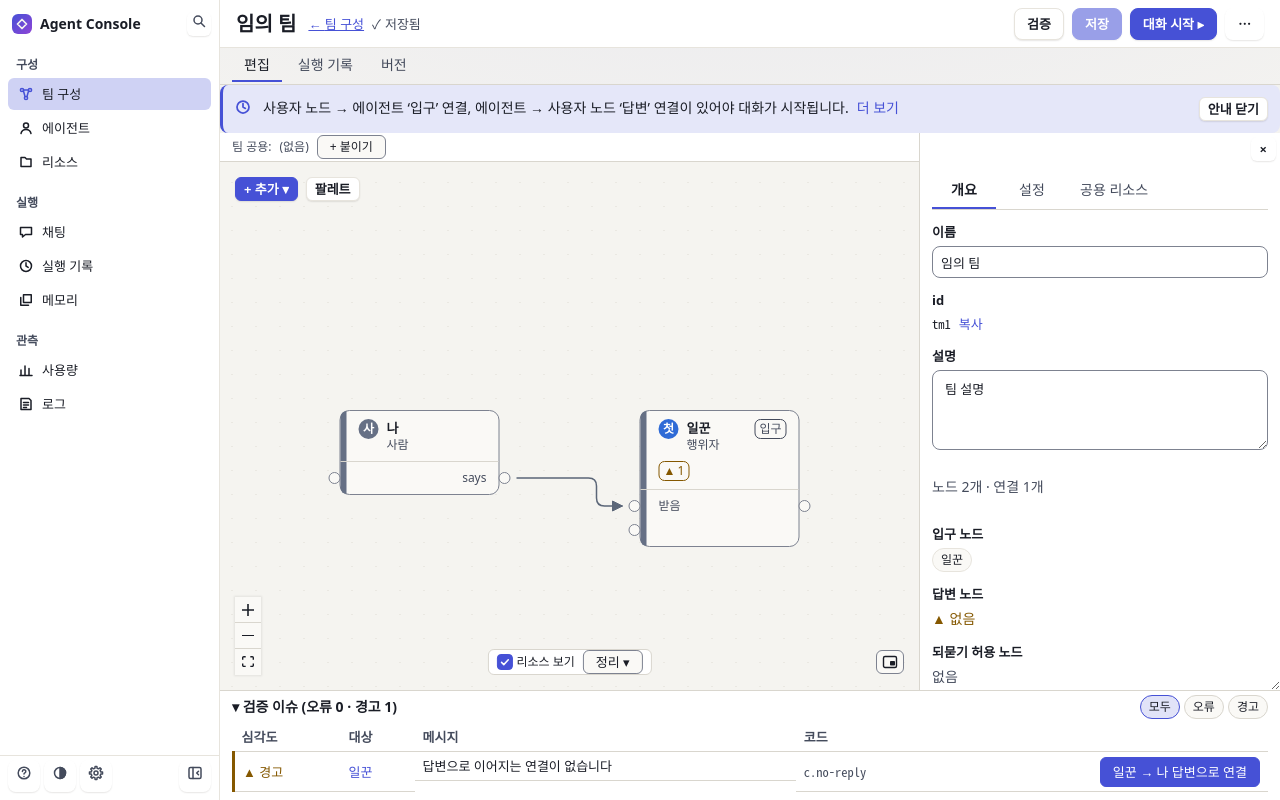
Test case: 팀 구성 편집기: 검증 이슈·제안·저장 › 버전 충돌(412)이면 충돌 배너가 뜨고 저장이 막힌다
Click the button "일꾼 → 나 답변으로 연결" at (1180, 772), box [1100, 756, 1260, 786]
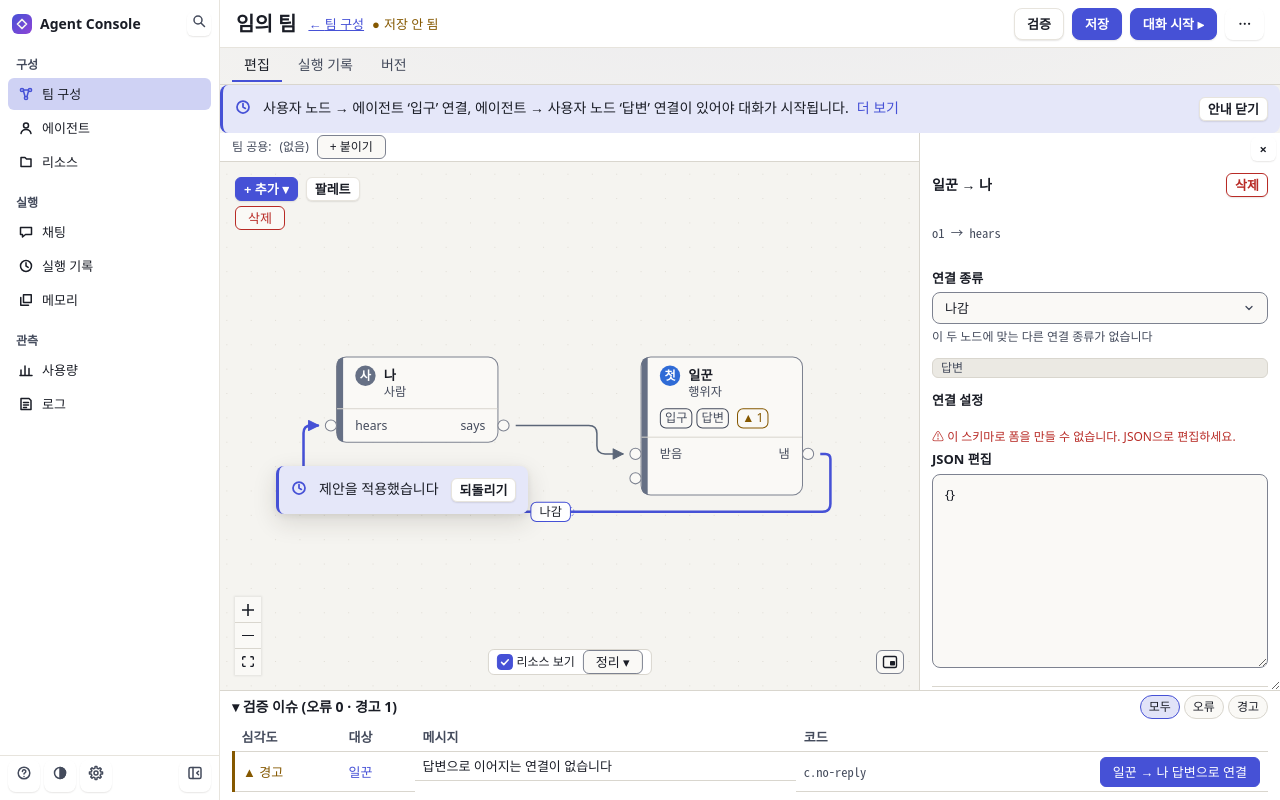
Click the button "저장" at (1097, 24), box [1072, 8, 1122, 40]
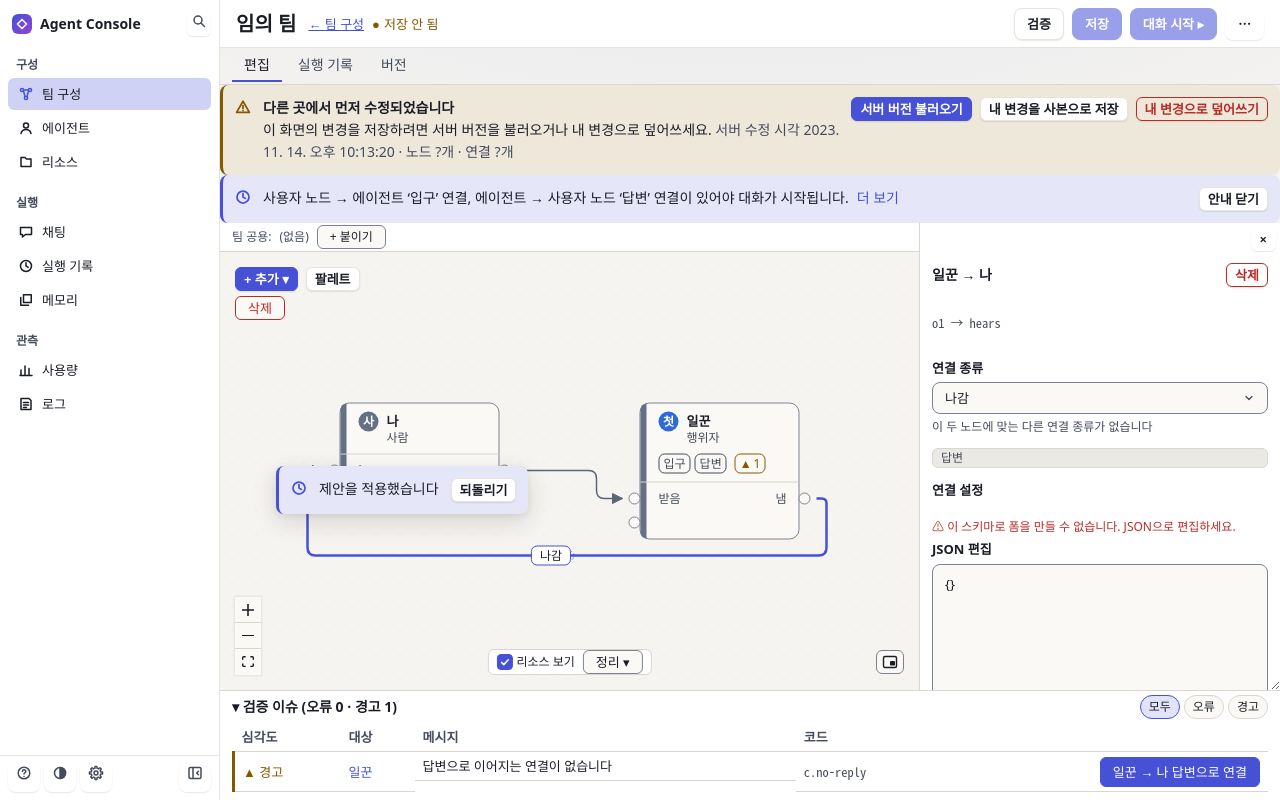
Result: the text "다른 곳에서 먼저 수정되었습니다" is shown at [263, 98, 454, 117]
Result: the button "저장" is disabled at [1072, 8, 1122, 40]
